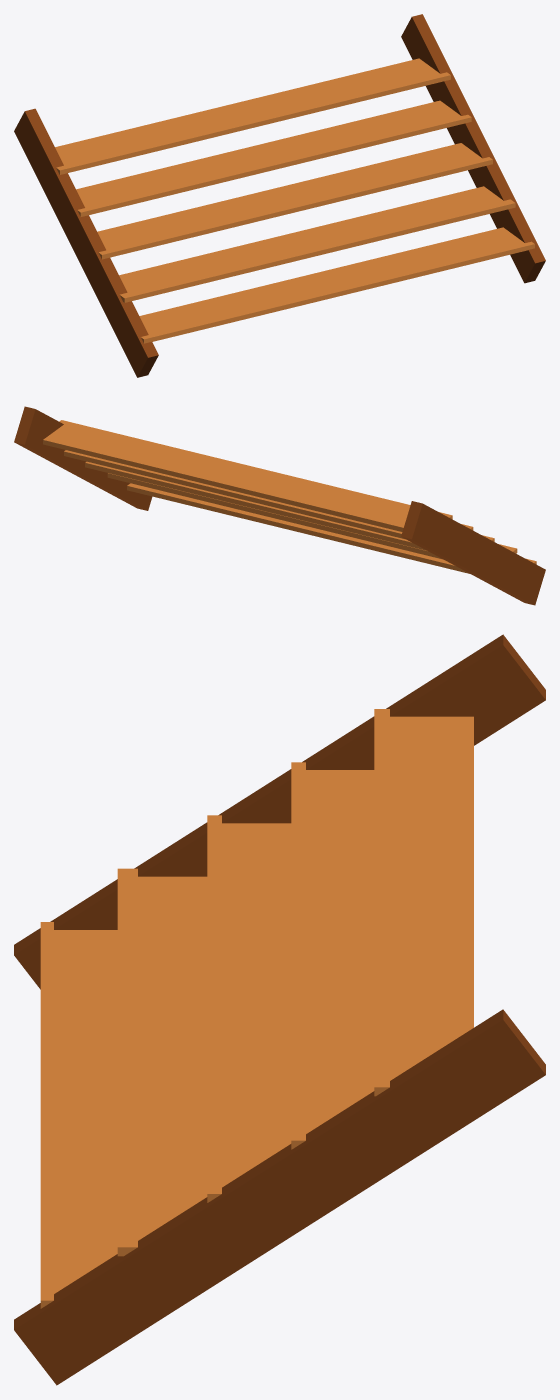
Rendered from stepenice.FBX.
3 views of the same model, one above another, from view 1: azimuth 30°, elevation 25°; view 2: azimuth 150°, elevation 25°; view 3: azimuth 270°, elevation 25° (orthographic). The views are drawn at different scales.
Visible parts, largest first — view 1: Box480, Box478; view 2: Box480, Box478; view 3: Box480, Box478.
Boxes of the visible parts, bbox=[...] form: Box480: bbox=[55, 58, 534, 343]; Box478: bbox=[14, 14, 545, 377]; Box480: bbox=[43, 420, 536, 573]; Box478: bbox=[14, 406, 545, 605]; Box480: bbox=[40, 709, 473, 1308]; Box478: bbox=[14, 634, 545, 1385].
Size of the model in its own units: 183 by 81.12 by 107.
